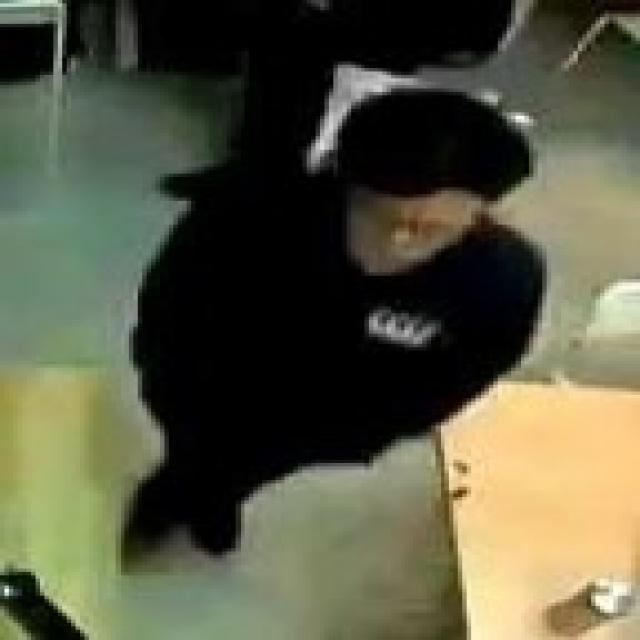work-tag: (369, 306, 444, 351)
